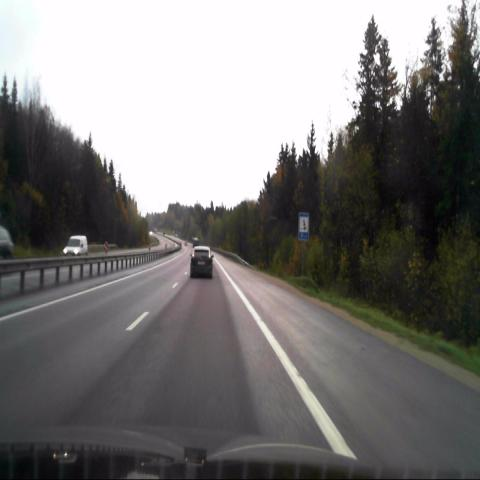7_11: (298, 212, 309, 240)
